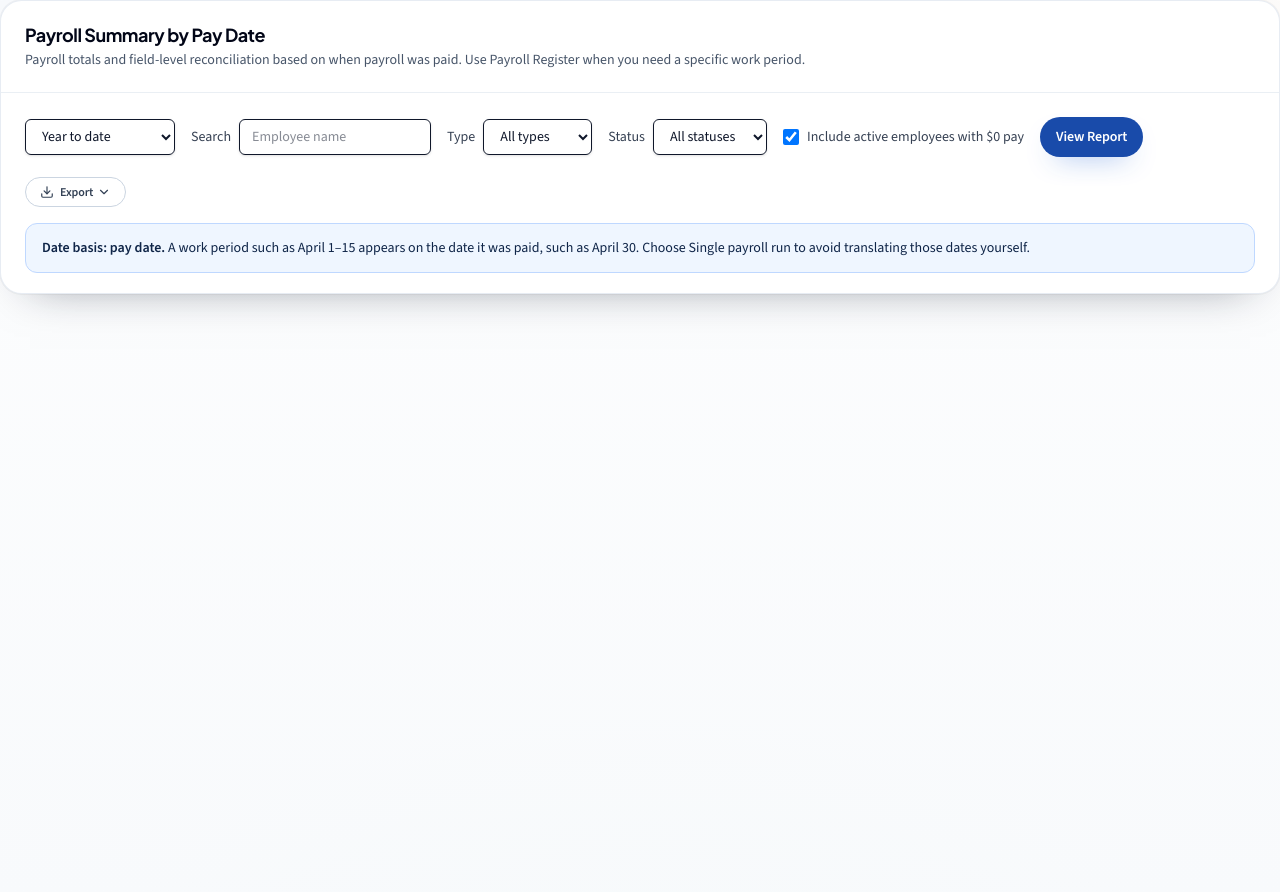
YtdSummaryPanel › uses a year-to-date pay-date range by default and offers a rolling year preset
Click the button "View Report". click: (1092, 137)
box: left=1040, top=117, right=1143, bottom=157
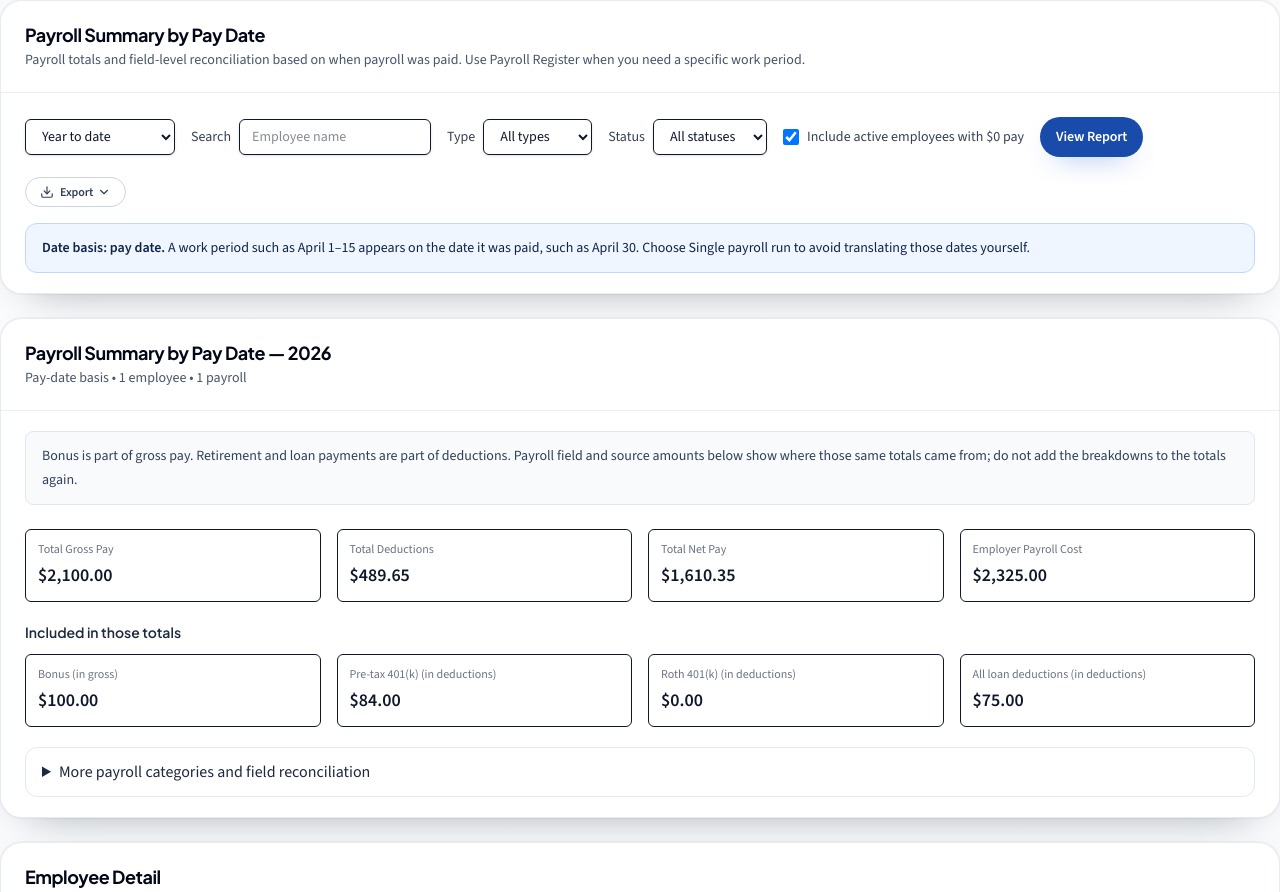
Now the heading "Payroll Summary by Pay Date — 2026" is shown, box left=25, top=341, right=331, bottom=364
Select "Past 12 months" in the dropdown named "Payroll summary period type". click: (100, 137)
box: left=25, top=119, right=175, bottom=155
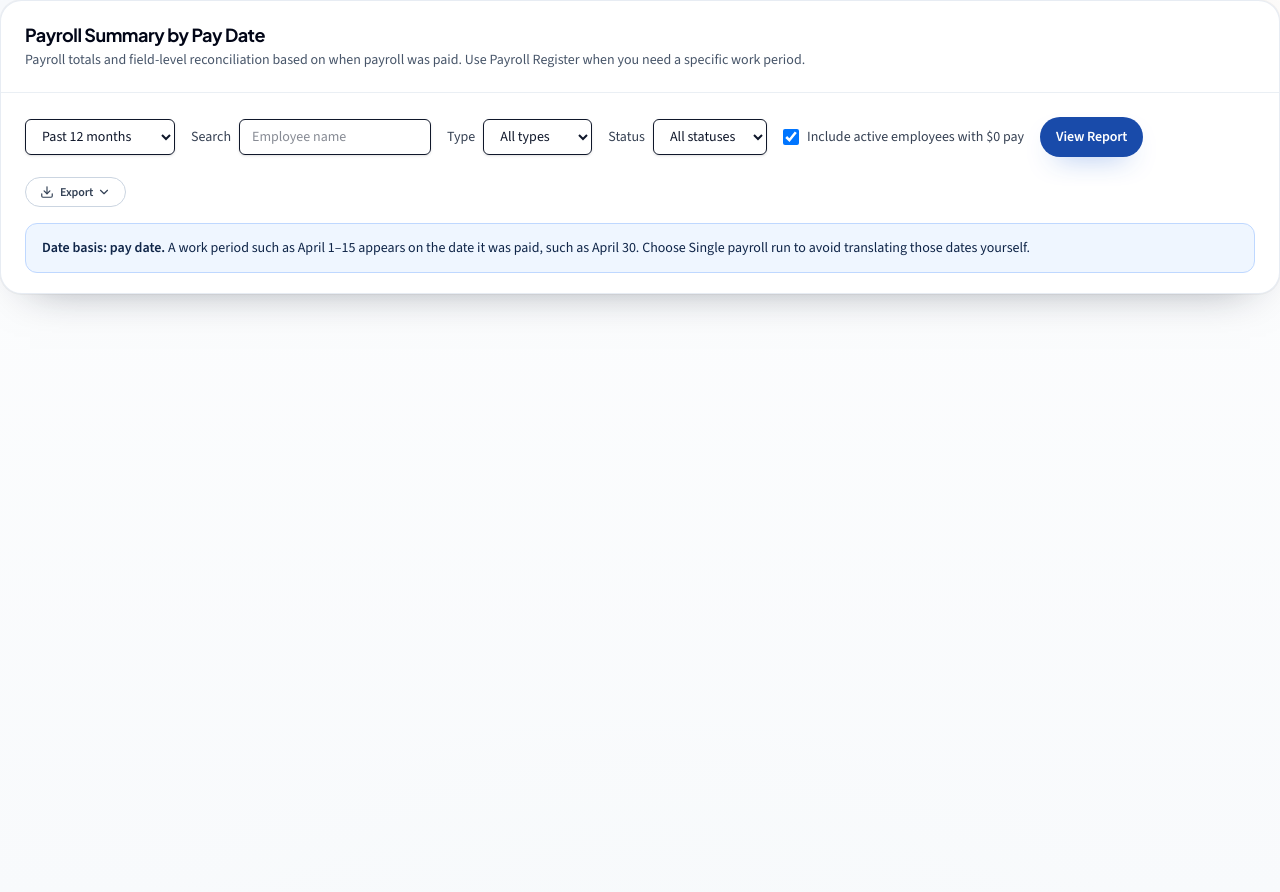
Click the button "View Report". click: (1092, 137)
box: left=1040, top=117, right=1143, bottom=157
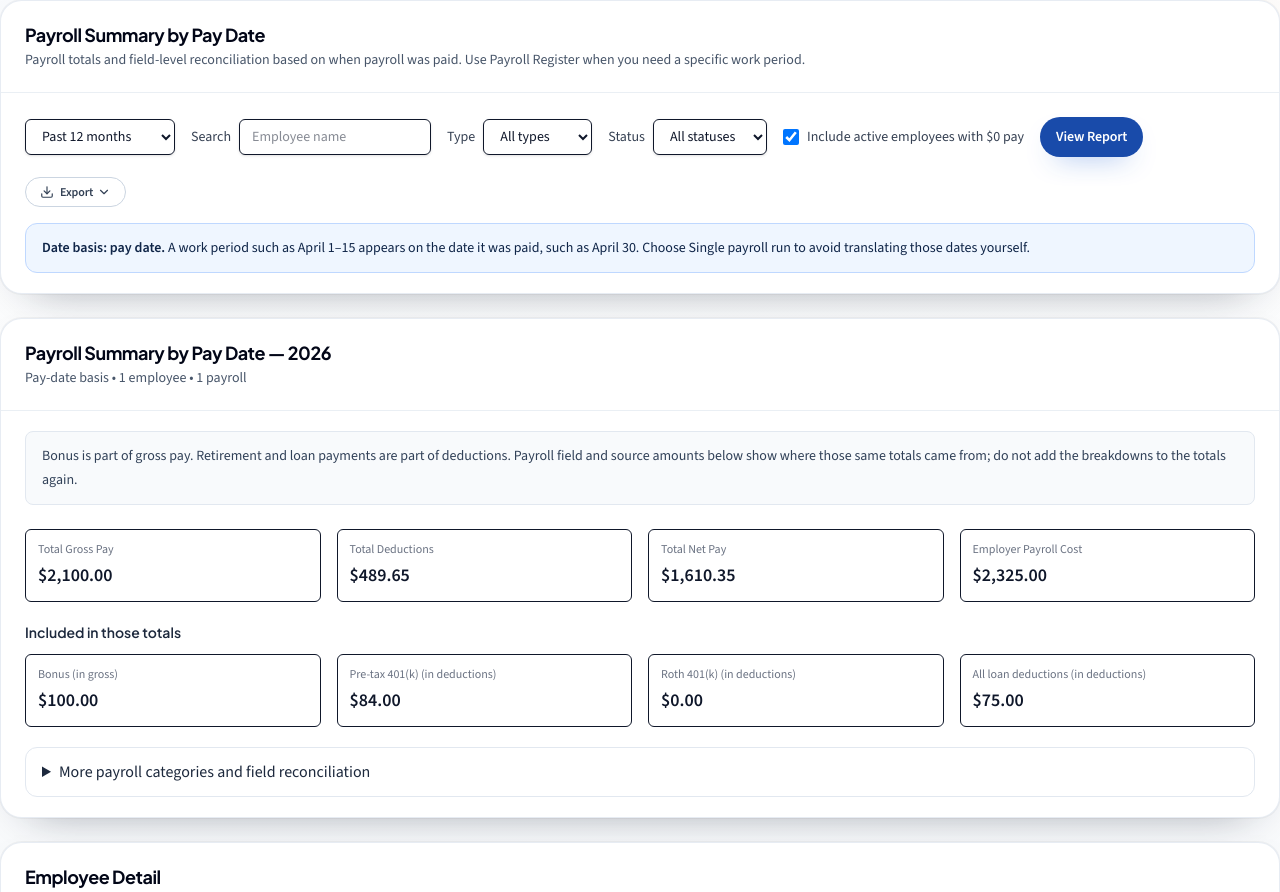
Now the heading "Payroll Summary by Pay Date — 2026" is shown, box left=25, top=341, right=331, bottom=364
